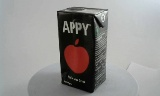appy: (50, 6, 103, 93)
